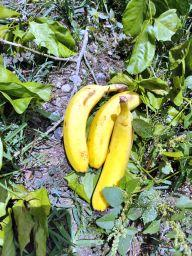banana: (62, 82, 129, 178), (89, 95, 134, 216), (87, 90, 142, 172)
